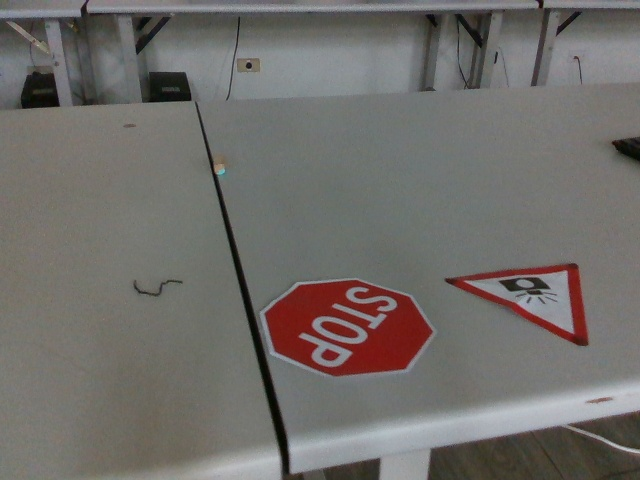camera: (442, 262, 597, 354)
stop: (258, 275, 437, 382)
